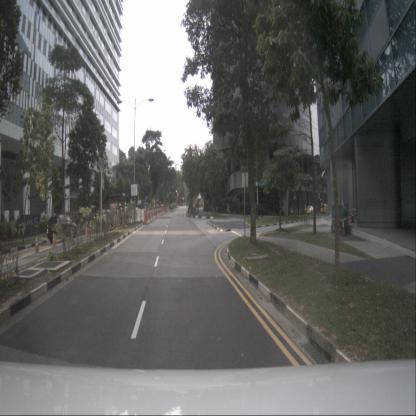human-pedestrian-adult: (226, 202, 230, 214), (290, 205, 293, 217), (170, 202, 173, 213)
movable_object-barrier: (144, 211, 149, 226), (149, 211, 152, 223), (148, 211, 150, 224)
movable_object-trafficcone: (34, 234, 40, 254), (341, 217, 347, 236), (52, 230, 57, 247), (350, 207, 355, 223), (330, 217, 335, 232), (70, 229, 74, 243), (85, 225, 89, 237)
vehicle-car: (47, 215, 77, 244), (38, 210, 55, 221), (305, 206, 315, 215), (321, 204, 328, 214)
